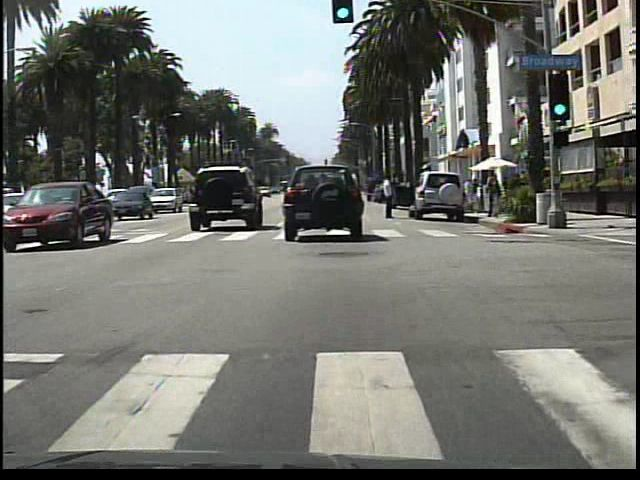person: (379, 168, 401, 223)
